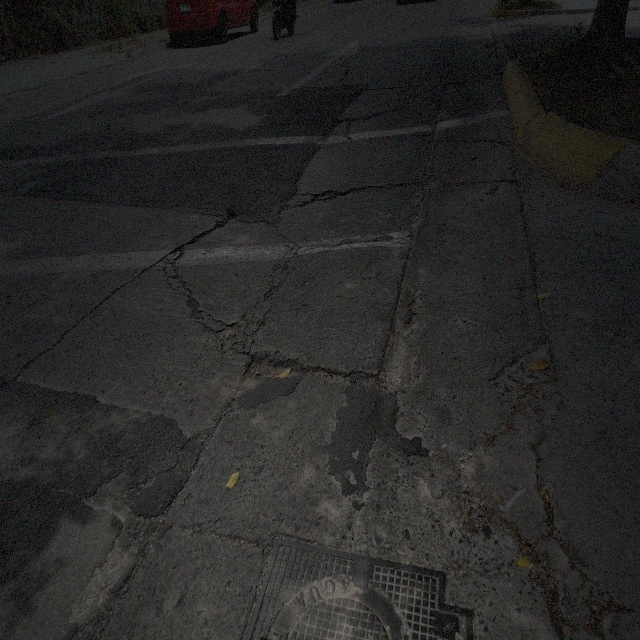pothole: (74, 528, 140, 622), (491, 338, 547, 421), (238, 349, 299, 394), (85, 472, 132, 524), (378, 319, 408, 390), (404, 294, 427, 344), (312, 363, 352, 389), (219, 320, 240, 356), (311, 189, 340, 201)
